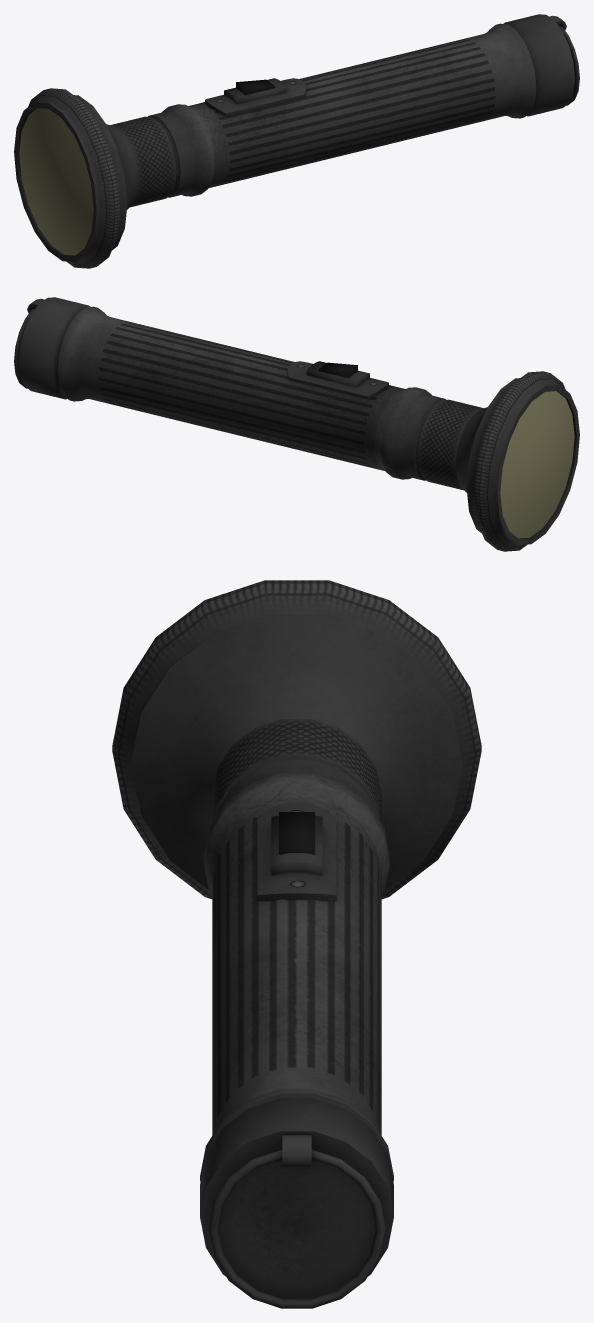
The model's file is FlashLight.obj.
3 renders of one model, top to bottom at view 1: azimuth 30°, elevation 25°; view 2: azimuth 150°, elevation 25°; view 3: azimuth 270°, elevation 25°, orthographic. The views are drawn at different scales.
Parts seen in each view (by area): view 1: light_0, lense_0; view 2: light_0, lense_0; view 3: light_0.
Part boxes in pixels (<box>): light_0: <box>14,14,579,268</box>; lense_0: <box>19,108,93,255</box>; light_0: <box>14,297,579,551</box>; lense_0: <box>500,391,574,538</box>; light_0: <box>112,580,481,1308</box>.
Bounding box in the file's own units: 17.76 × 5.44 × 5.52.
Materials: 2 (2 with a texture image).
